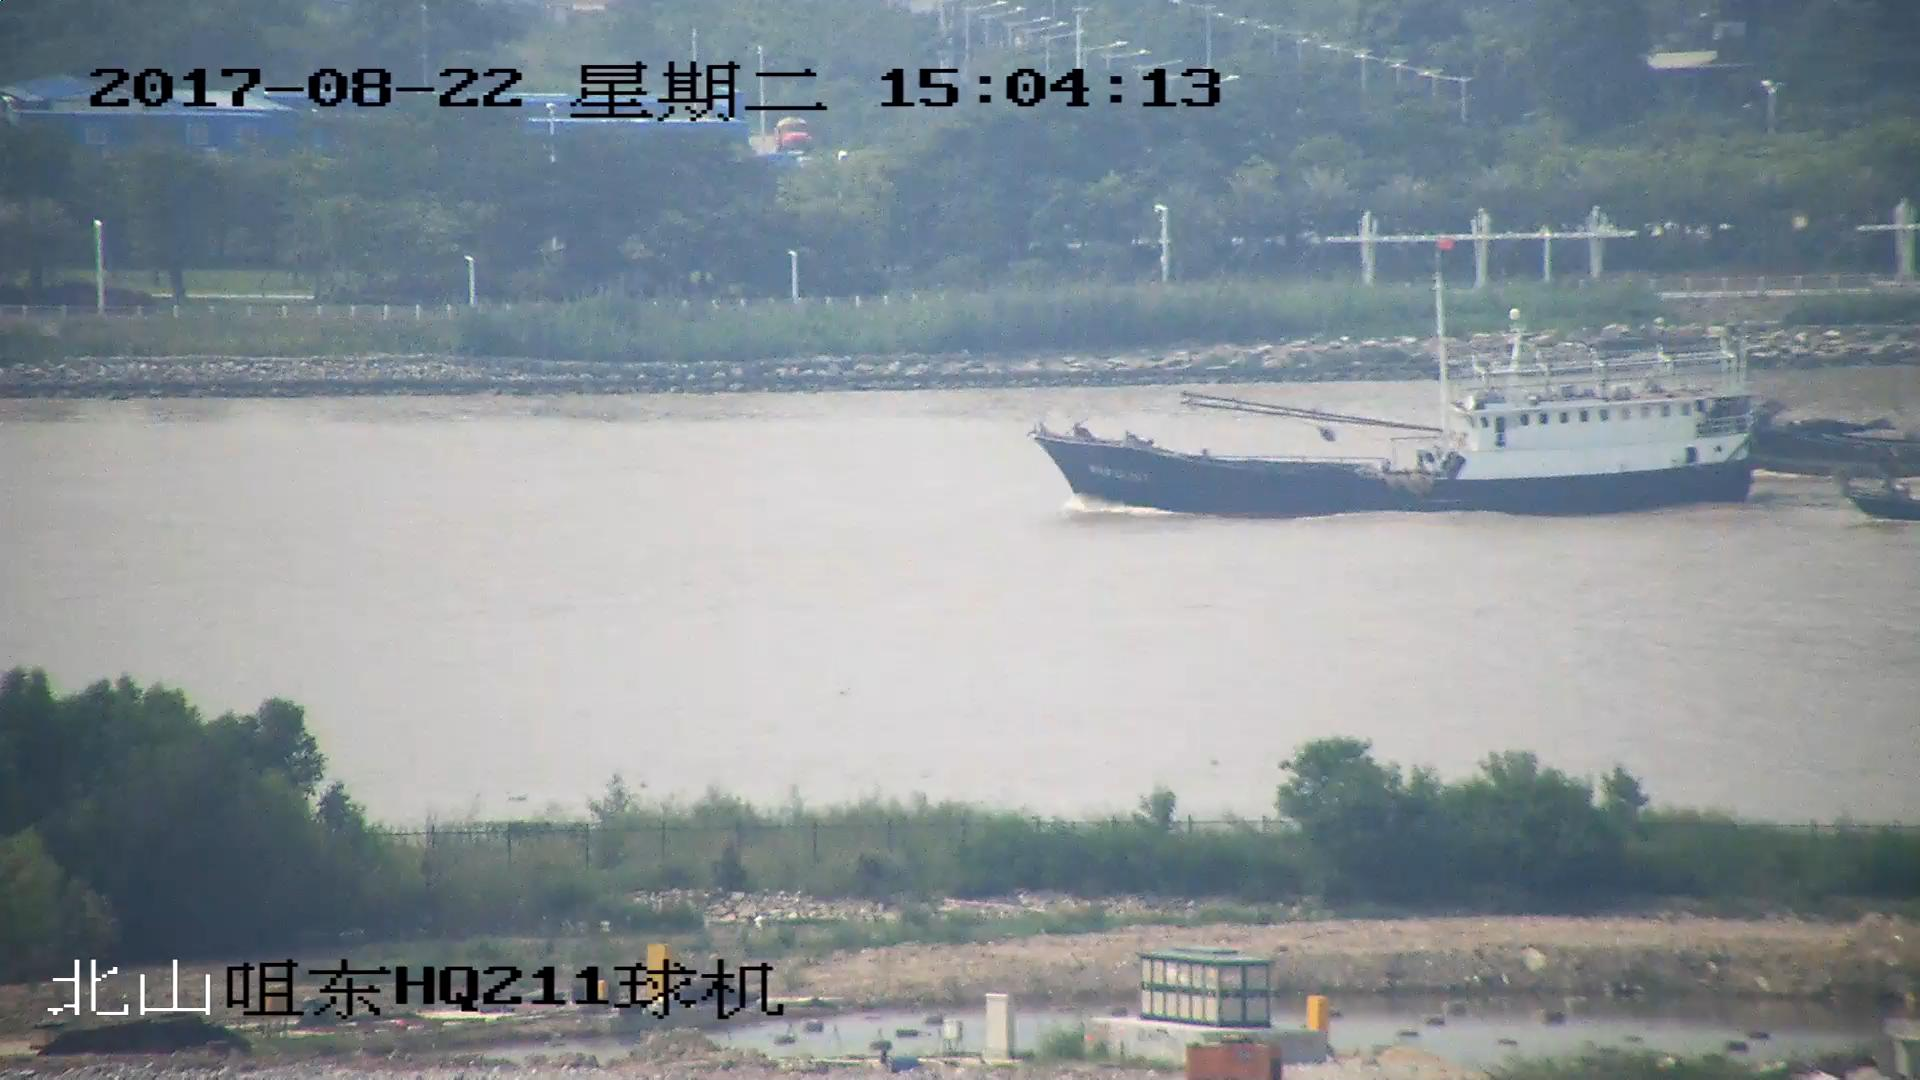fishing boat: (1031, 239, 1765, 518), (1744, 401, 1920, 477), (1842, 476, 1920, 518)
